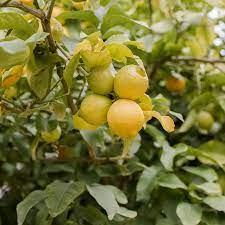lemon: (107, 99, 144, 138), (114, 64, 148, 100), (80, 93, 112, 125), (88, 64, 116, 96), (166, 74, 186, 93)
